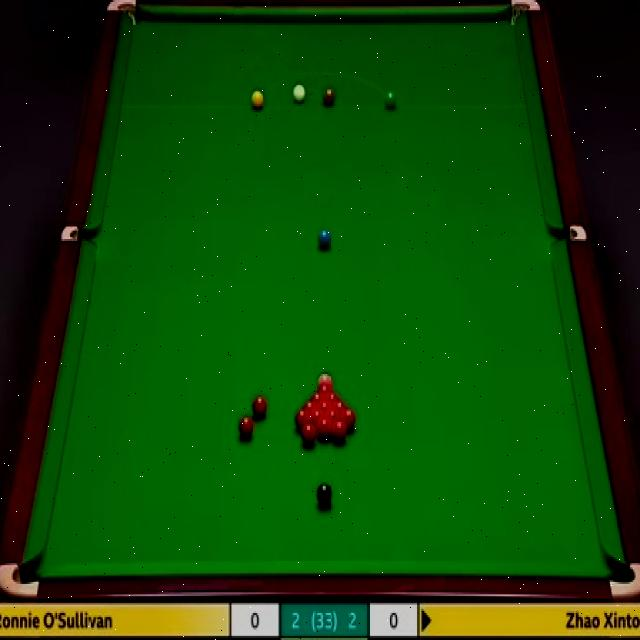black-ball: (315, 481, 331, 506)
blue-ball: (317, 230, 332, 247)
brown-ball: (319, 91, 330, 109)
green-ball: (383, 88, 398, 110)
pink-ball: (318, 374, 333, 388)
red-ball: (298, 422, 317, 446), (252, 394, 268, 422), (238, 415, 253, 439), (317, 416, 332, 439), (338, 408, 354, 429), (332, 421, 347, 443), (294, 408, 308, 431), (326, 410, 339, 430), (304, 400, 316, 412), (318, 385, 329, 398), (319, 401, 330, 414)
white-ball: (293, 84, 306, 102)
yellow-ball: (251, 90, 264, 110)
